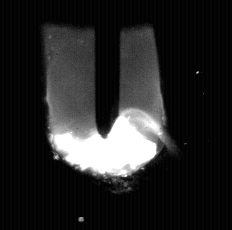arame: (96, 0, 121, 138)
poca: (55, 0, 158, 230)
